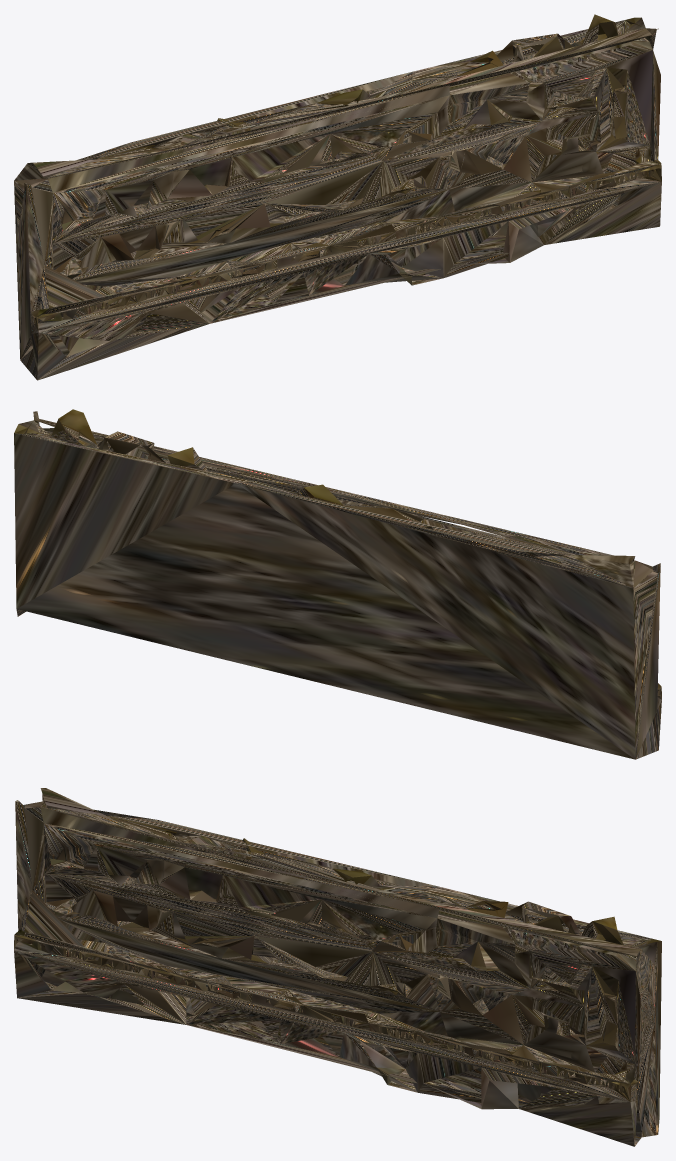
The model's file is w02_far.glb.
3 views of the same model, one above another, from view 1: azimuth 30°, elevation 25°; view 2: azimuth 150°, elevation 25°; view 3: azimuth 330°, elevation 25° (orthographic).
Parts seen in each view (by area): view 1: w02_far; view 2: w02_far; view 3: w02_far.
Boxes of the visible parts, <box> form: w02_far: <box>14,14,661,380</box>; w02_far: <box>14,409,661,759</box>; w02_far: <box>14,788,661,1146</box>.
Bounding box in the file's own units: 87.85 × 28 × 7.35.
Materials: 1 (1 with a texture image).
